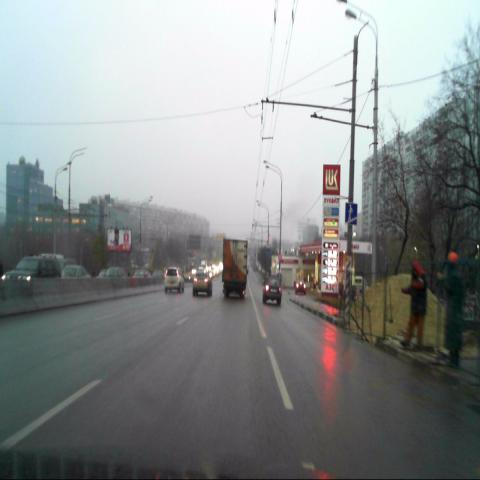6_6: (345, 202, 358, 224)
